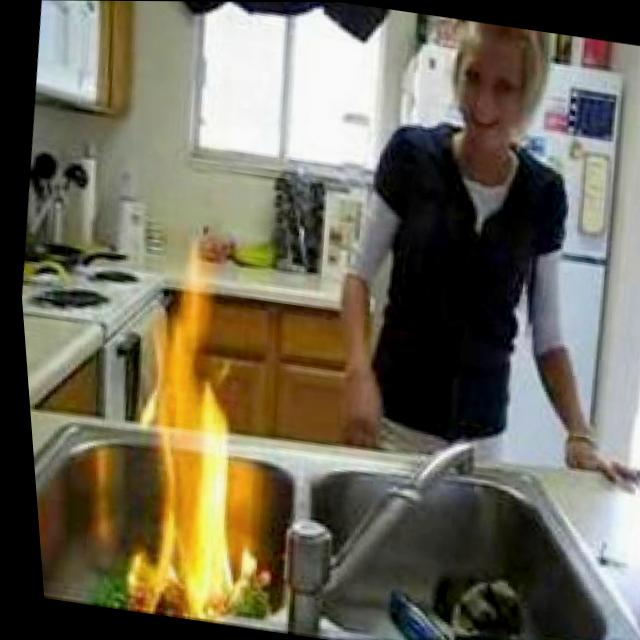Fire: (82, 209, 297, 623)
